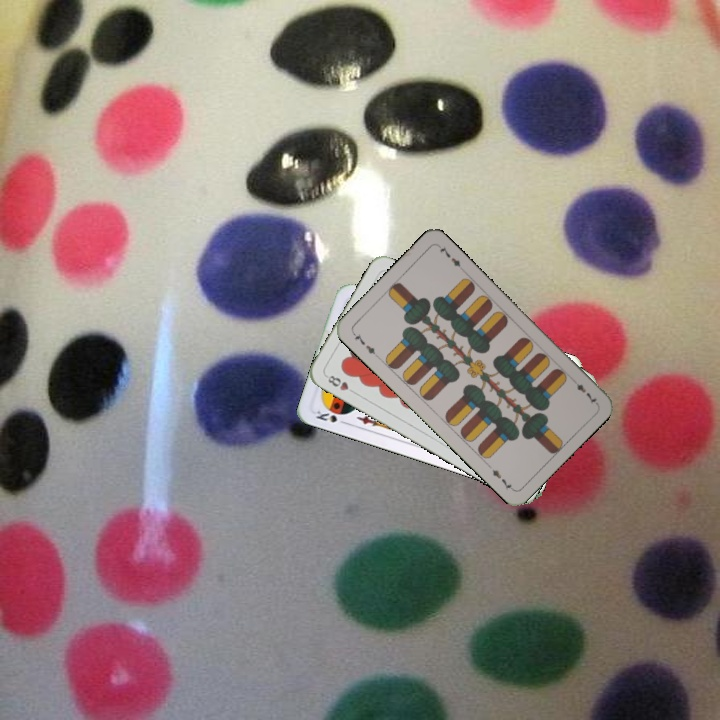E7: (348, 328, 380, 360), (567, 375, 599, 406)
H8: (322, 371, 359, 397)
SK: (312, 406, 350, 427)
